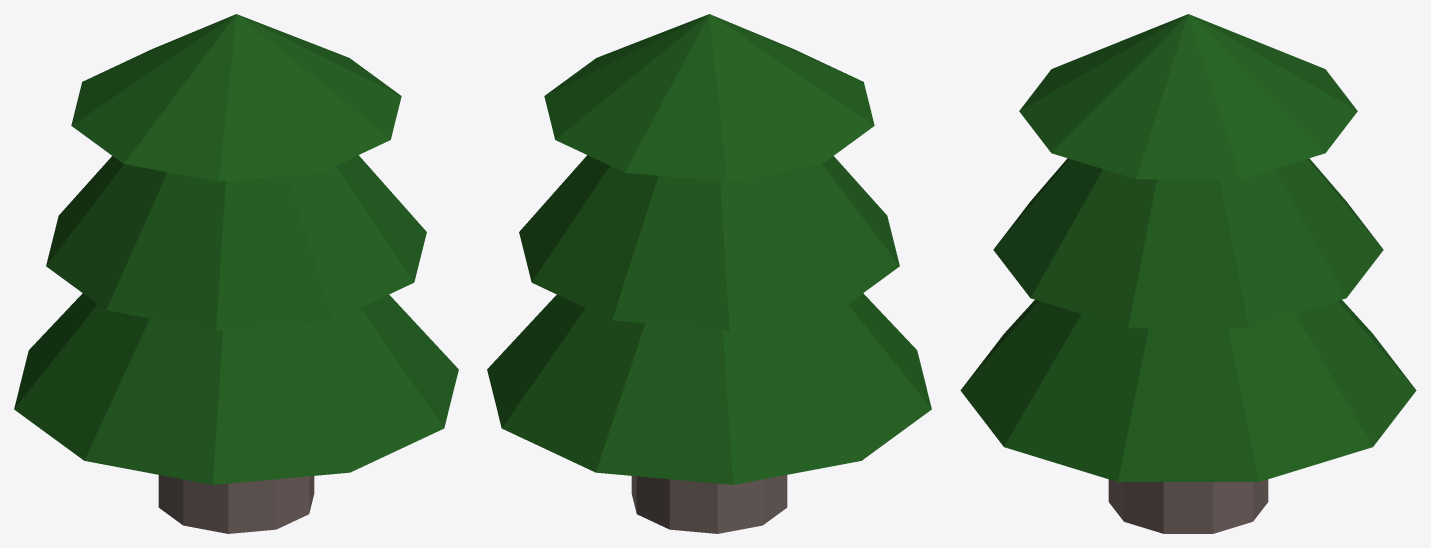
The model's file is tree.dae.
The picture shows the model from 3 angles, left to right: view 1: azimuth 30°, elevation 25°; view 2: azimuth 150°, elevation 25°; view 3: azimuth 270°, elevation 25°; orthographic projection.
Visible parts, largest first — view 1: Cylinder; view 2: Cylinder; view 3: Cylinder.
Part boxes in pixels (left/top/right/bottom): Cylinder: left=14, top=14, right=458, bottom=533; Cylinder: left=487, top=14, right=931, bottom=533; Cylinder: left=960, top=14, right=1416, bottom=533.
Bounding box in the file's own units: 2.56 × 2.69 × 3.18.
